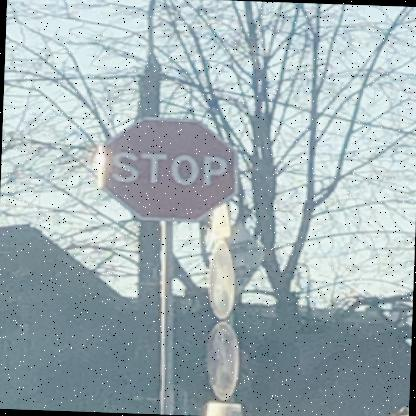stop: (96, 113, 238, 222)
